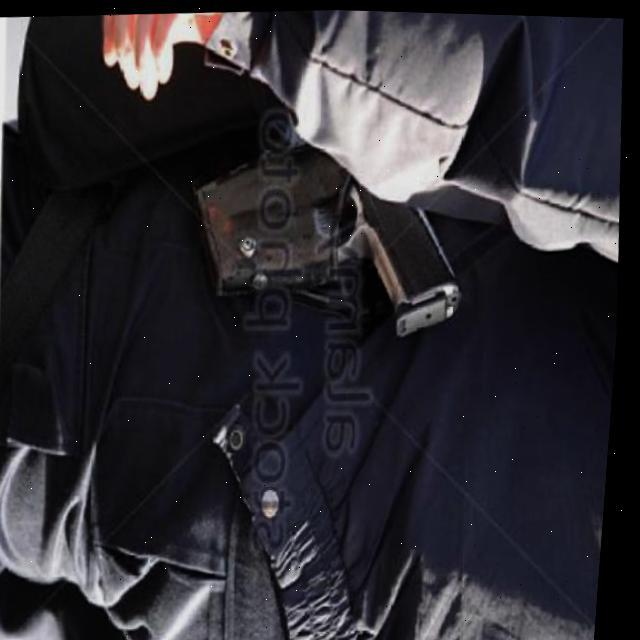gun: (182, 118, 484, 353)
